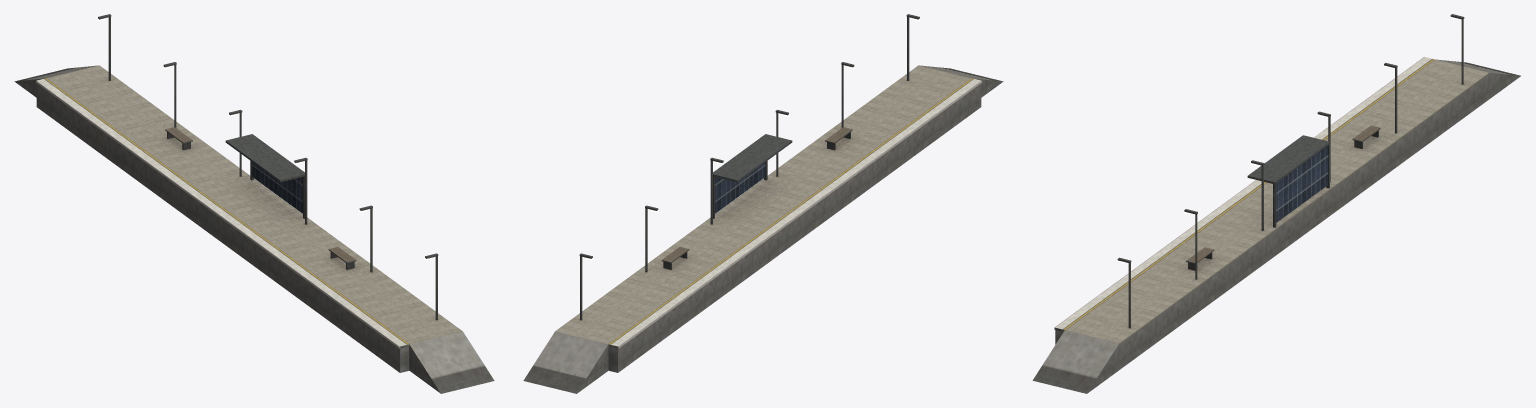
Rendered from rail_platform.glb.
The picture shows the model from 3 angles, left to right: view 1: azimuth 30°, elevation 25°; view 2: azimuth 150°, elevation 25°; view 3: azimuth 330°, elevation 25°; orthographic projection.
Visible parts, largest first — view 1: rail_platform; view 2: rail_platform; view 3: rail_platform.
Boxes of the visible parts, x1=… form: rail_platform: x1=14, y1=14, x2=494, y2=393; rail_platform: x1=523, y1=14, x2=1003, y2=393; rail_platform: x1=1032, y1=14, x2=1520, y2=393.
Size of the model in its own units: 4.05 by 5.6 by 47.
Materials: 7 (1 with a texture image).
